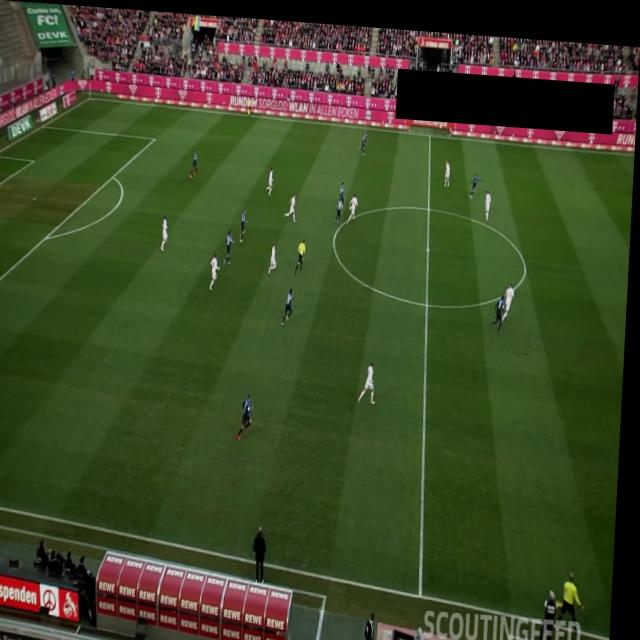player: (361, 354, 382, 399), (241, 388, 259, 437), (503, 273, 518, 318), (493, 285, 509, 325), (284, 282, 297, 321), (285, 188, 300, 218), (212, 248, 223, 287), (470, 166, 485, 193), (226, 225, 237, 261), (162, 212, 172, 248), (349, 187, 360, 217), (271, 237, 280, 272), (359, 127, 370, 152), (485, 182, 493, 216), (242, 204, 250, 238), (192, 145, 201, 175), (268, 162, 277, 192), (336, 192, 346, 218), (446, 152, 453, 181), (341, 175, 348, 203)
referee: (560, 562, 591, 628), (297, 231, 309, 270), (247, 93, 253, 113)
